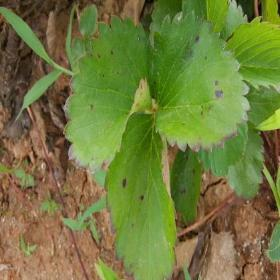Leaf Spot: (149, 9, 251, 153), (62, 14, 153, 174), (104, 111, 180, 279), (227, 121, 265, 202), (170, 144, 201, 225)
